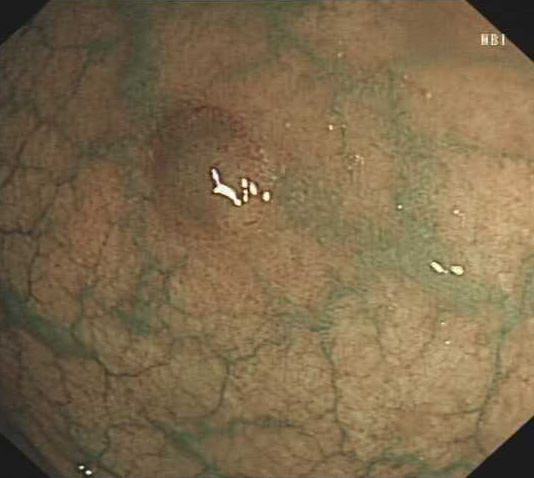adenoma: (143, 106, 273, 240)
